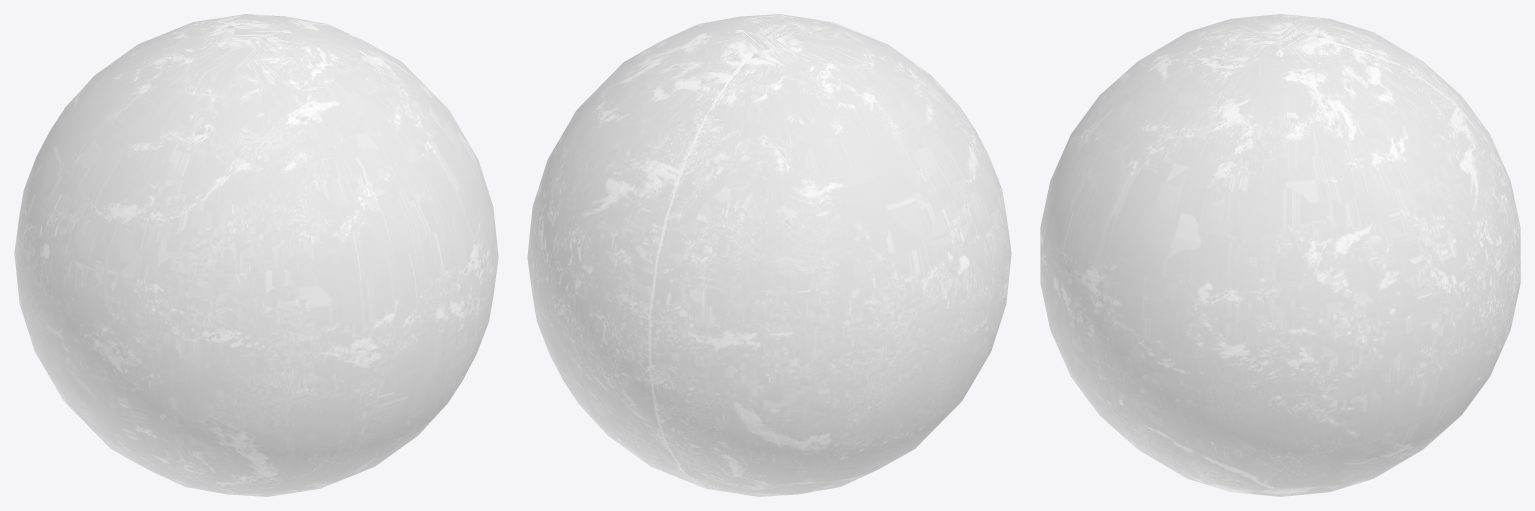
Rendered from earth.glb.
3 views of the same model, side by side, from view 1: azimuth 30°, elevation 25°; view 2: azimuth 150°, elevation 25°; view 3: azimuth 270°, elevation 25° (orthographic).
Visible parts, largest first — view 1: Clouds; view 2: Clouds; view 3: Clouds.
Boxes of the visible parts, x1=… form: Clouds: x1=14, y1=14, x2=498, y2=496; Clouds: x1=527, y1=14, x2=1011, y2=496; Clouds: x1=1040, y1=14, x2=1520, y2=496.
Size of the model in its own units: 2.05 by 2.05 by 2.05.
2 materials, 2 textured.
